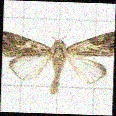Spodoptera litura: (2, 29, 114, 96)
